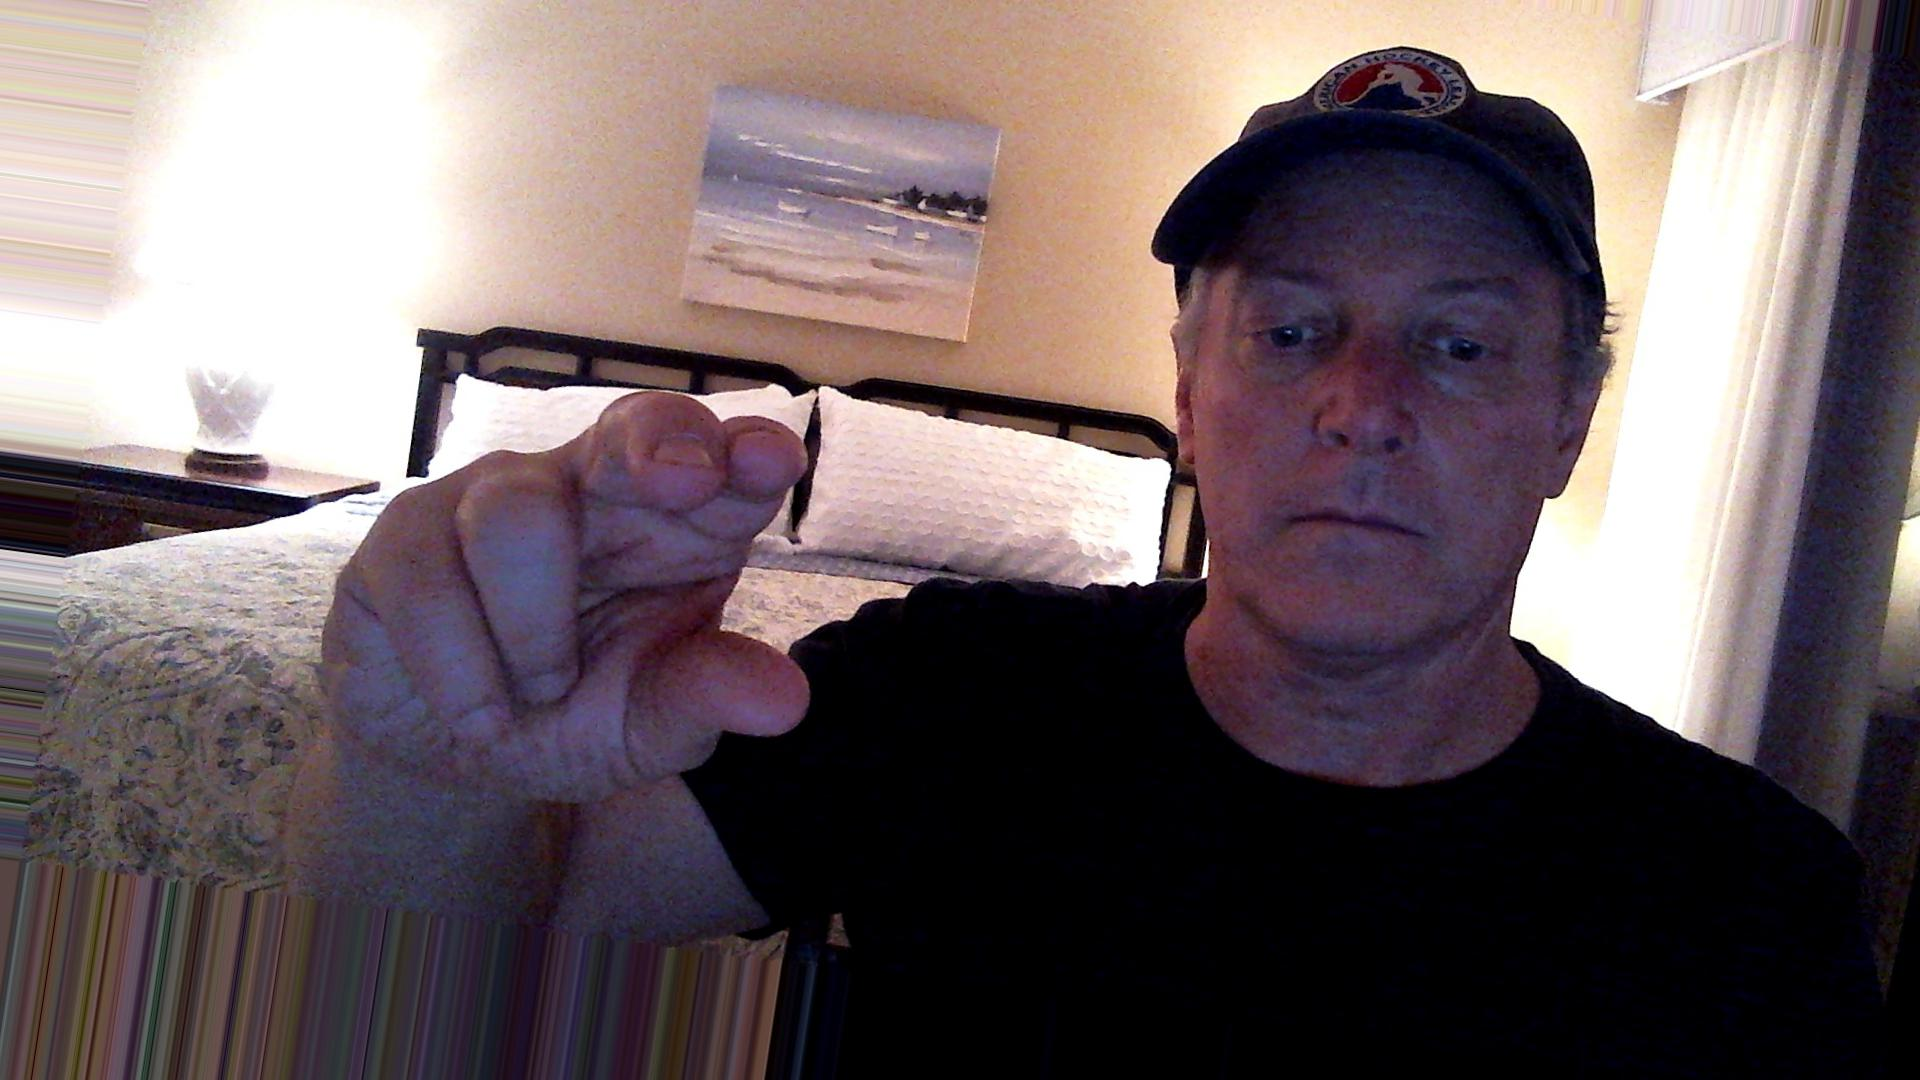No: (299, 371, 861, 848)
